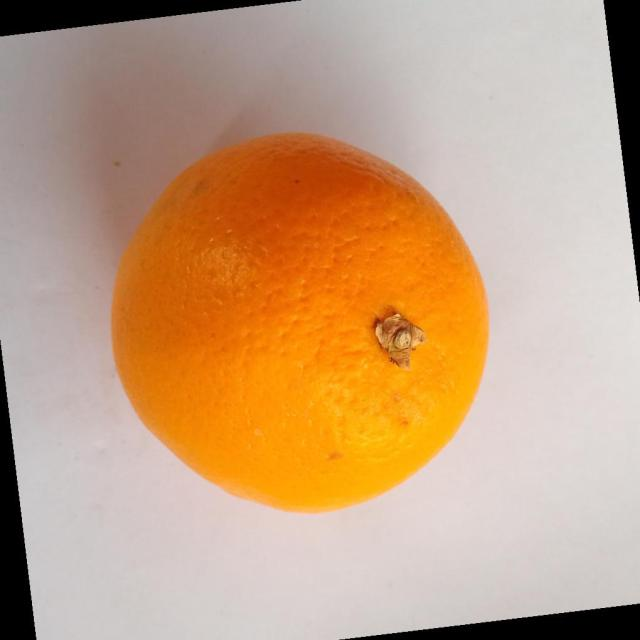fresh orange: (109, 130, 490, 514)
